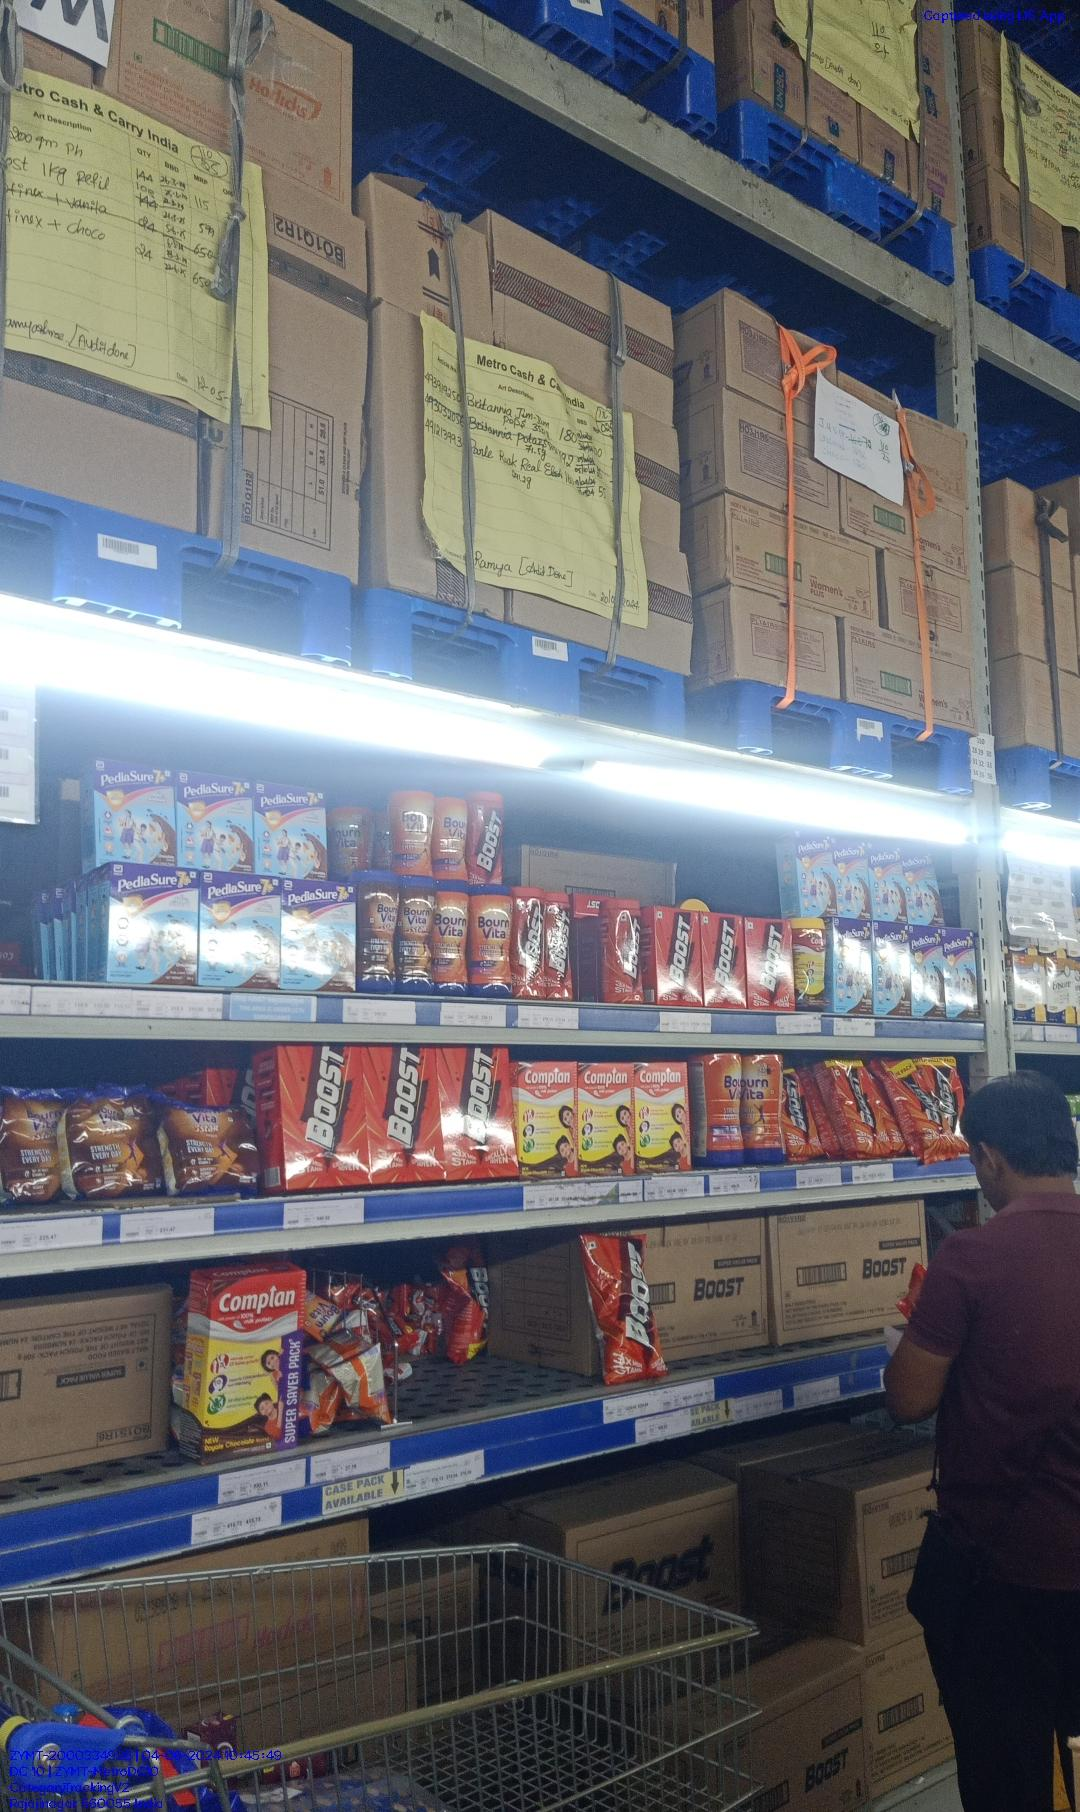BOURN_VITA_FIVE_STAR_MAGIC_500_G_JAR: (357, 870, 397, 991), (400, 874, 433, 992)
BOURN_VITA_FIVE_STAR_MAGIC_500_G_POUCH: (162, 1086, 260, 1199), (67, 1087, 153, 1195), (3, 1086, 60, 1200)
PEDIASURE_7_PLUS_CHOCOLATE_400_G_PACK: (105, 870, 198, 984), (201, 878, 280, 988), (93, 756, 175, 862), (284, 882, 355, 993), (177, 770, 252, 867), (256, 780, 325, 875)
